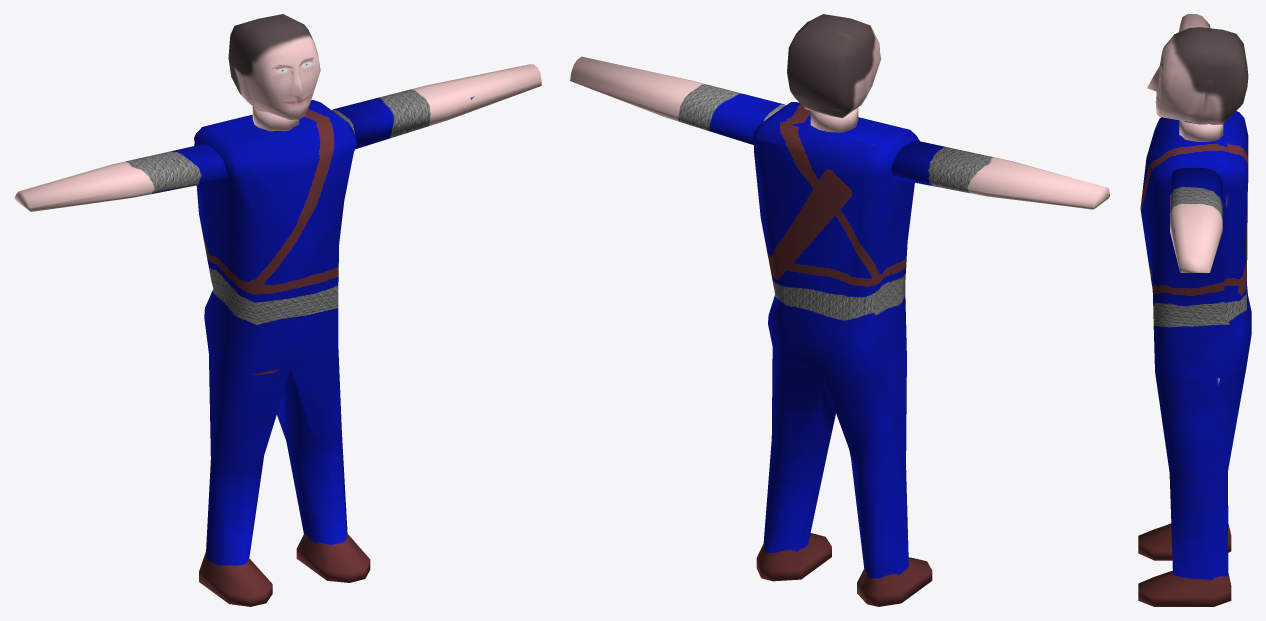
File: HQCarthaginianMan.fbx
3 views of the same model, side by side, from view 1: azimuth 30°, elevation 25°; view 2: azimuth 150°, elevation 25°; view 3: azimuth 270°, elevation 25° (orthographic). The views are drawn at different scales.
Parts seen in each view (by area): view 1: Man; view 2: Man; view 3: Man.
Boxes of the visible parts, x1,y1,x2,y2 form: Man: [14, 14, 541, 606]; Man: [570, 14, 1109, 606]; Man: [1138, 14, 1251, 606].
Size of the model in its own units: 1.77 by 0.3442 by 1.81.
Materials: 1 (1 with a texture image).
